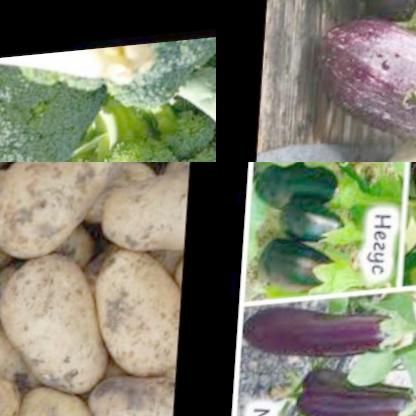broccoli: (93, 36, 216, 145), (16, 98, 216, 162), (0, 56, 99, 162)
eggplant: (303, 0, 416, 162), (244, 294, 416, 377), (260, 199, 370, 271), (253, 162, 381, 223), (249, 241, 358, 311), (278, 369, 416, 416), (321, 0, 416, 60)
potato: (0, 245, 119, 401), (91, 238, 188, 387), (0, 162, 129, 263), (103, 168, 191, 265), (95, 372, 180, 416), (25, 377, 111, 416)
